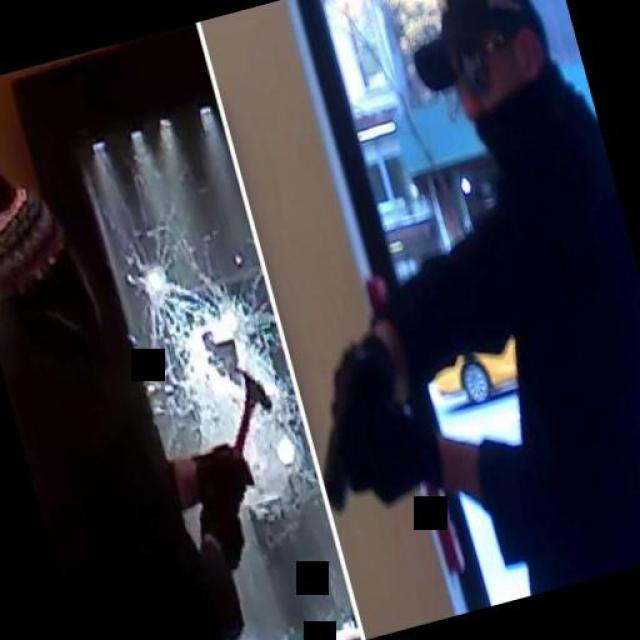gun: (285, 304, 434, 525)
